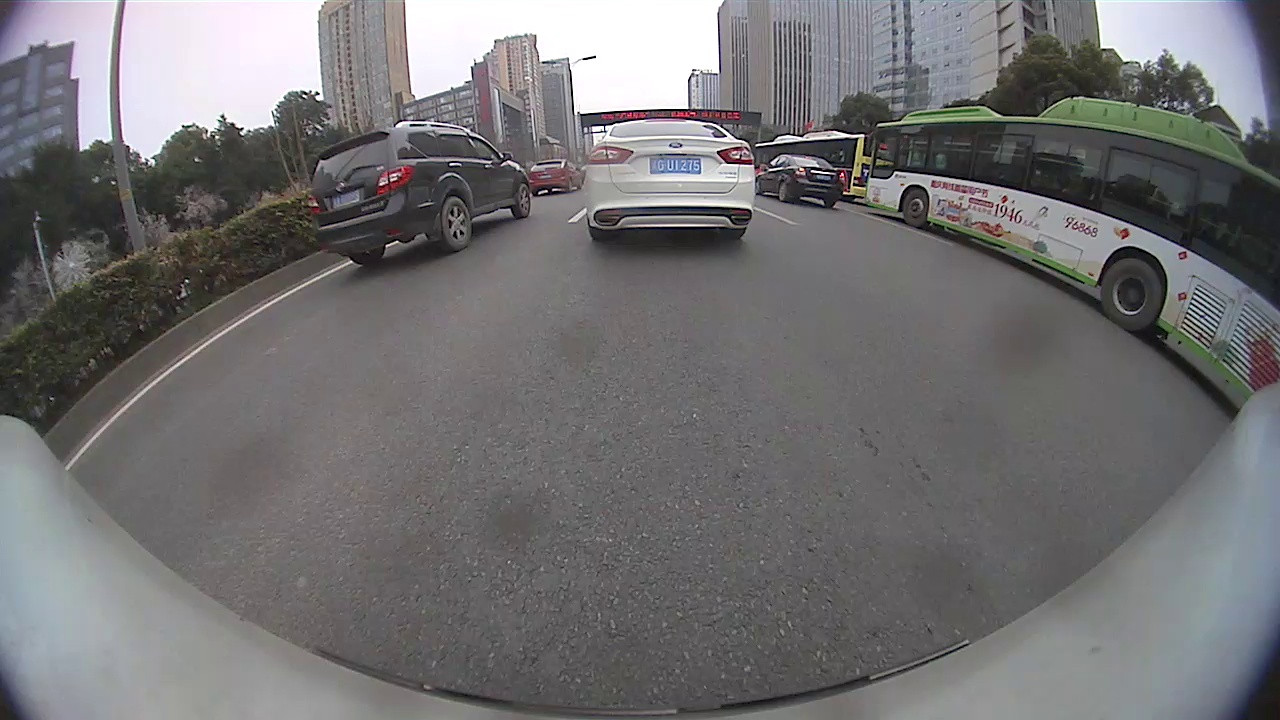bus: (865, 94, 1279, 413), (750, 130, 876, 204)
car: (309, 120, 533, 268), (582, 118, 757, 242), (755, 154, 845, 210), (528, 157, 585, 197)
front: (900, 185, 932, 230), (513, 183, 533, 220)
rear: (1101, 256, 1161, 335), (436, 195, 476, 252), (777, 179, 791, 204)
